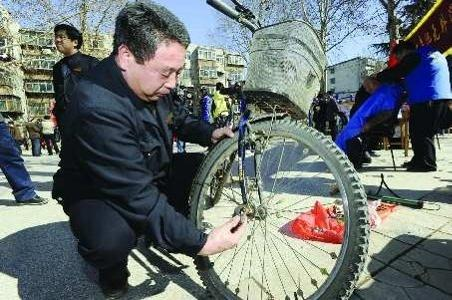person: (58, 3, 246, 297)
